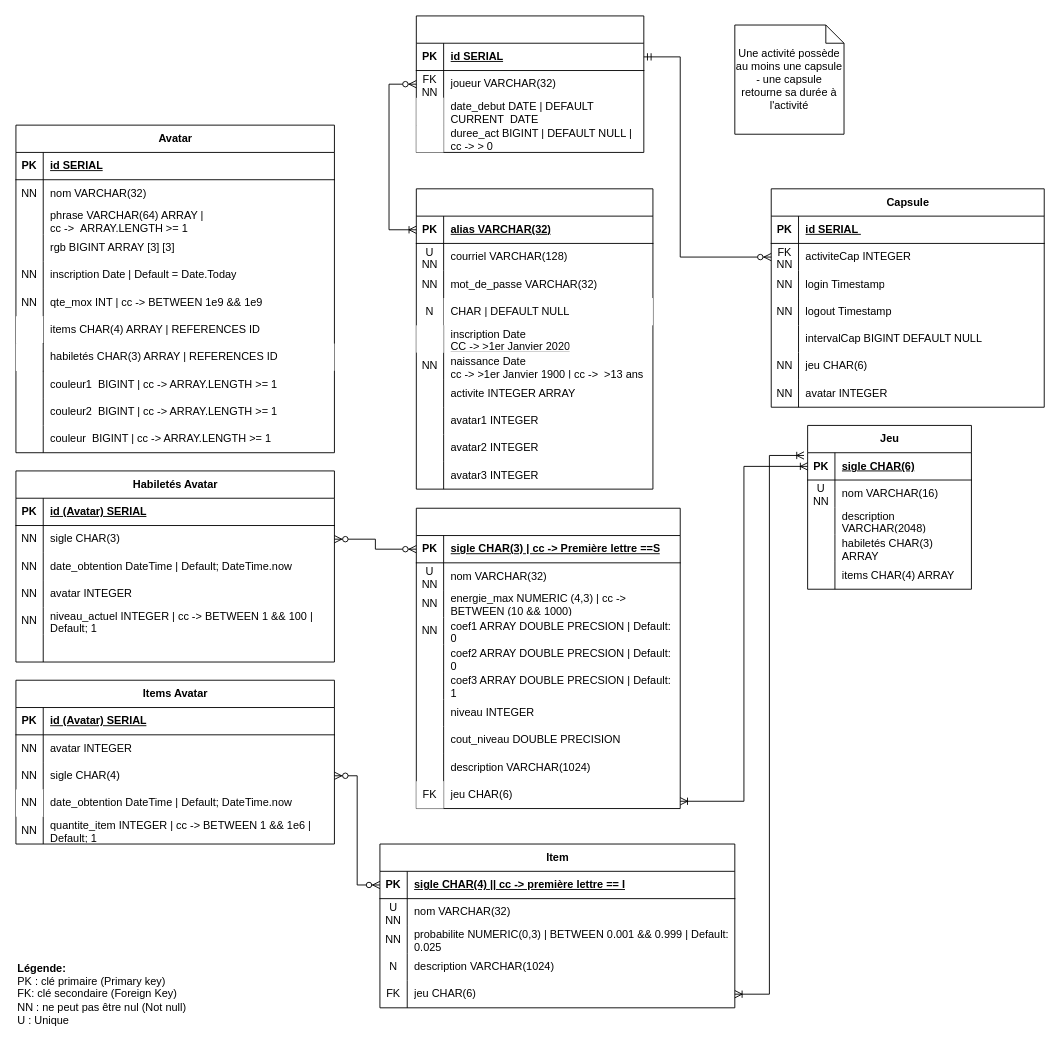
Image size: 1060x1060. Some labels were removed from this diagram. The shapes that lost their labels are listed below. From the top down, each one's box as (x1, y1, x2, y2) in pixels, then its label:
(415, 15, 644, 152): Activité
(415, 188, 653, 489): Joueur
(415, 507, 680, 809): Habileté
